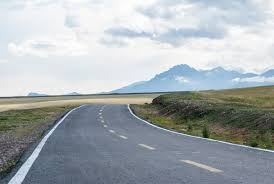strada: (1, 104, 269, 184)
